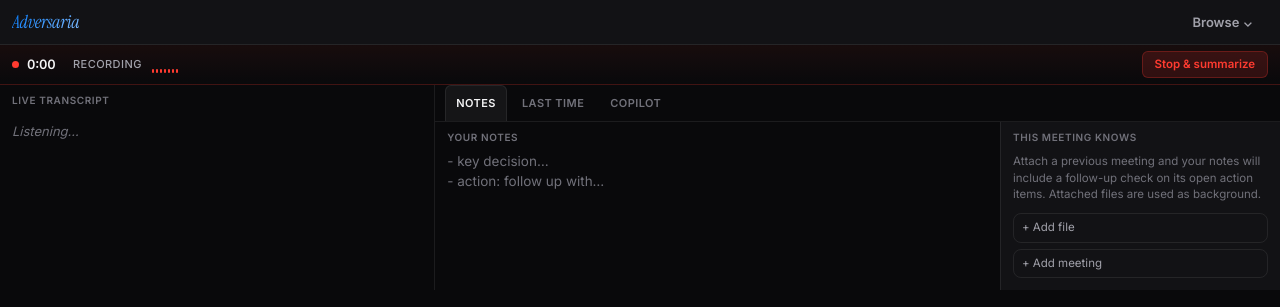
Test case: RecordingCompanion › renders Notes and Last time tabs, switching hides notes textarea and shows folder select
The width and height of the screenshot is (1280, 307).
Check: the element showing "Notes Last time Copilot" is shown, box [435,85,1279,122]
Check: the text box is shown, box [435,151,1000,290]
Click the tab "Last time" at (553, 103), box [511,85,595,121]
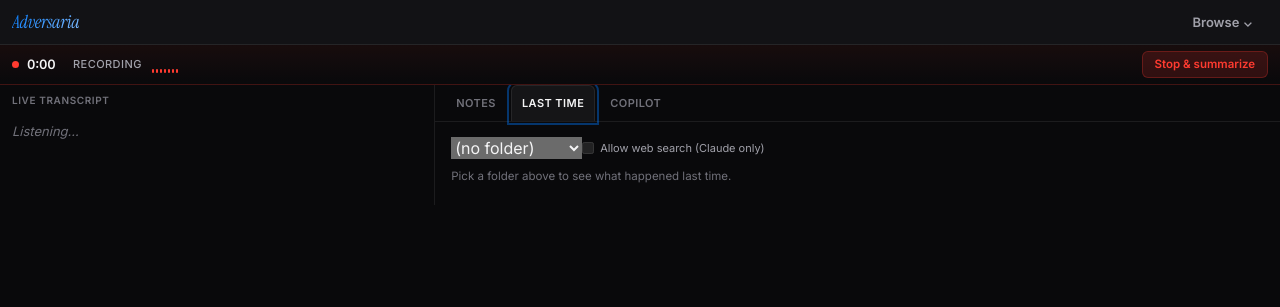
Check: the dropdown named "Folder for this meeting" is shown, box [451,137,582,159]
Click the tab "Notes" at (476, 103), box [445,85,507,121]
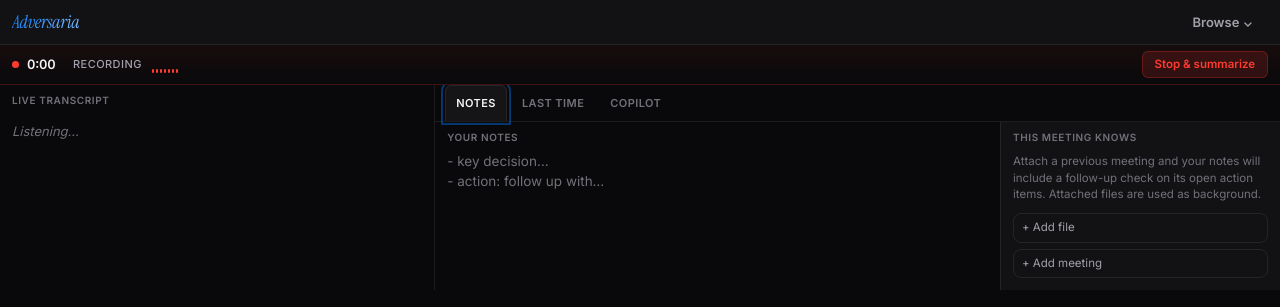
Check: the text box is shown, box [435,151,1000,290]
